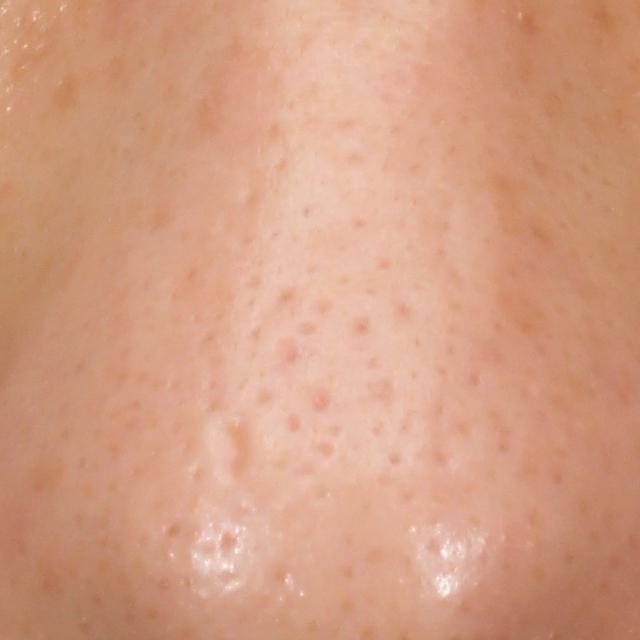atrophic_scar: (212, 415, 254, 486)
melasma: (50, 70, 83, 108)
